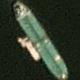ship: (0, 0, 34, 40)
